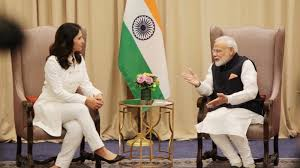Good: (30, 22, 258, 168)
